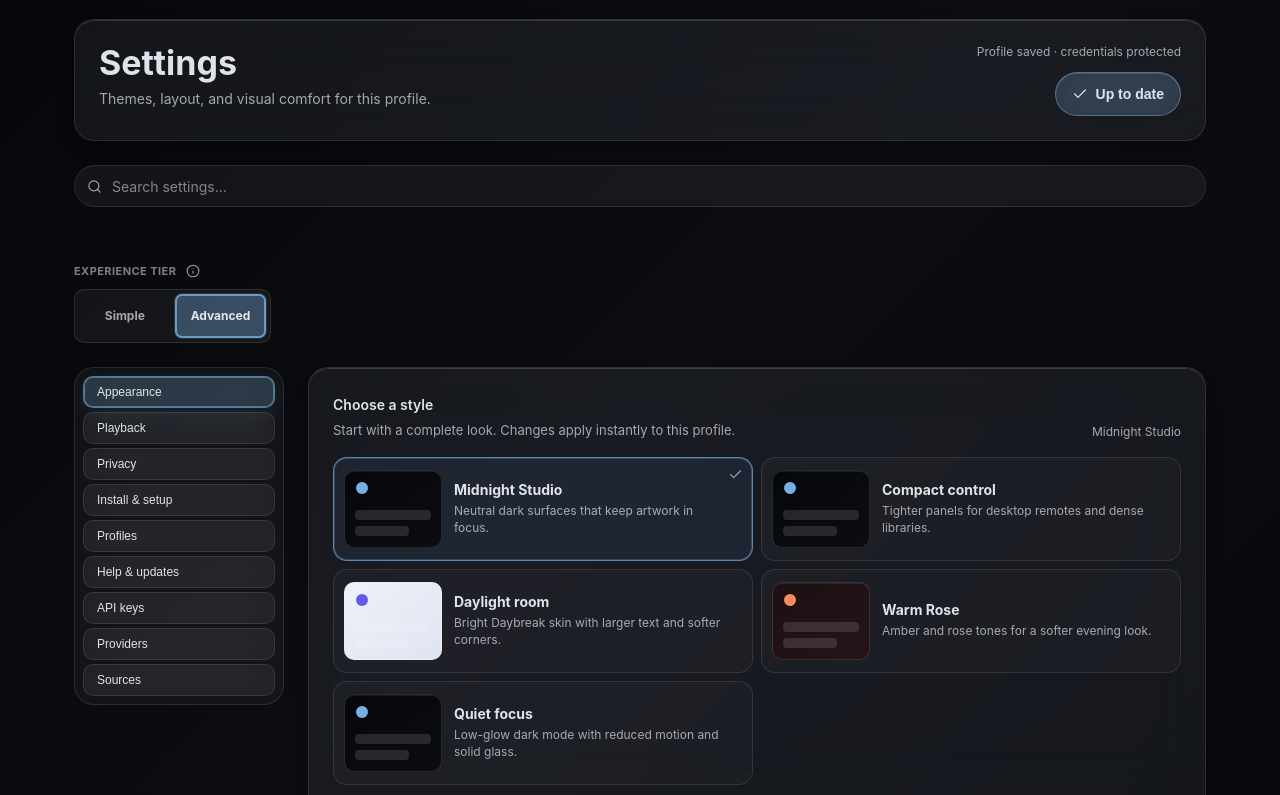
Settings shell › gives playback selects stable accessible names
The width and height of the screenshot is (1280, 795).
Click the button "Playback": [179, 428] box [83,412,275,444]
(page scrolled)
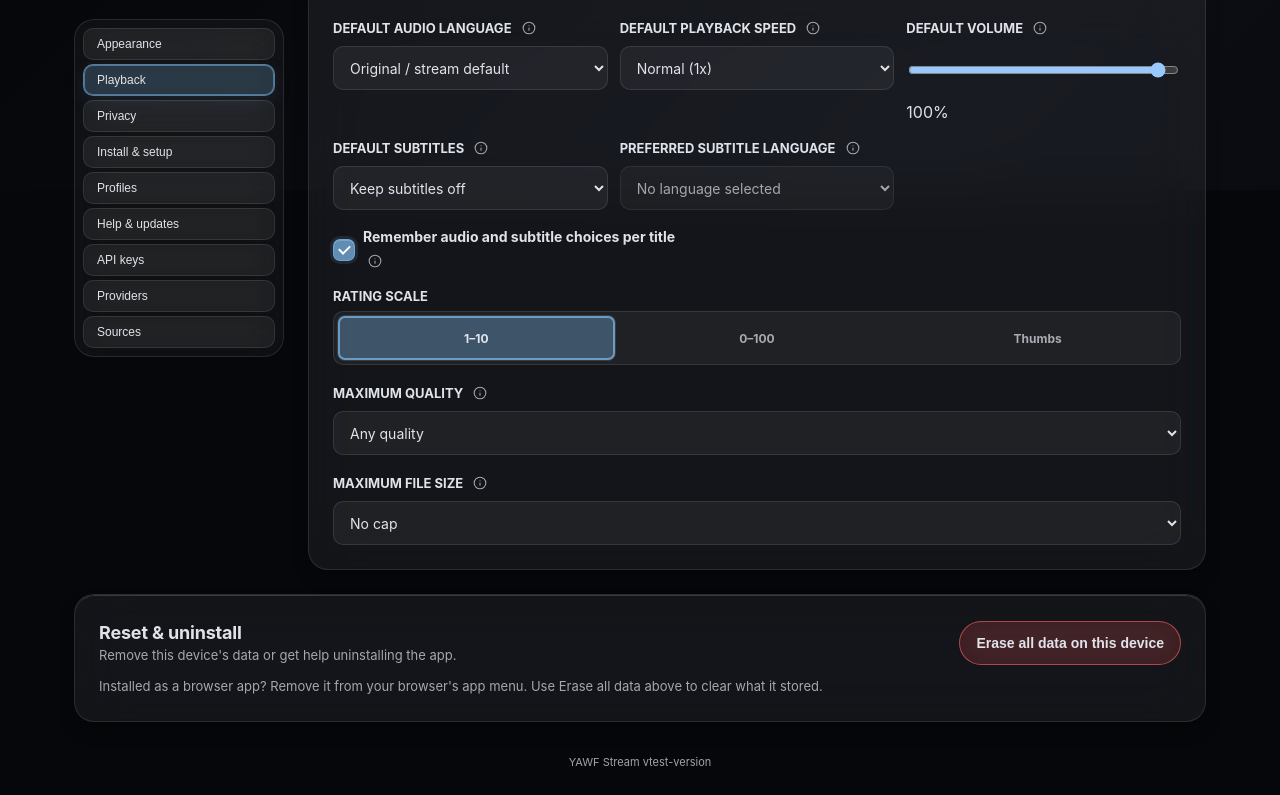
Now the dropdown named "Maximum quality" is shown, box [333,412,1181,456]
Now the dropdown named "Maximum file size" is shown, box [333,502,1181,546]
